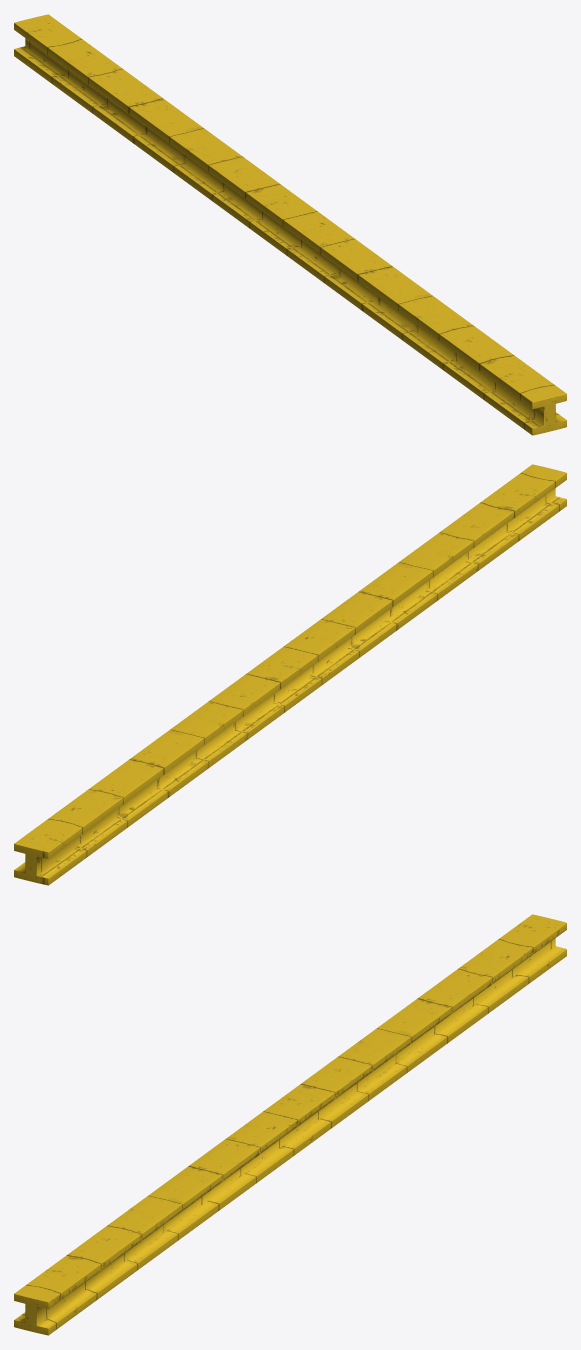
File: MY_BALKA.fbx
3 renders of one model, top to bottom at view 1: azimuth 30°, elevation 25°; view 2: azimuth 150°, elevation 25°; view 3: azimuth 330°, elevation 25°, orthographic.
Parts seen in each view (by area): view 1: metal.002; view 2: metal.002; view 3: metal.002.
Boxes of the visible parts, x1,y1,x2,y2 form: metal.002: [14, 14, 566, 435]; metal.002: [14, 464, 566, 885]; metal.002: [14, 914, 566, 1335].
Bounding box in the file's own units: 0.2219 × 0.2053 × 5.71.
